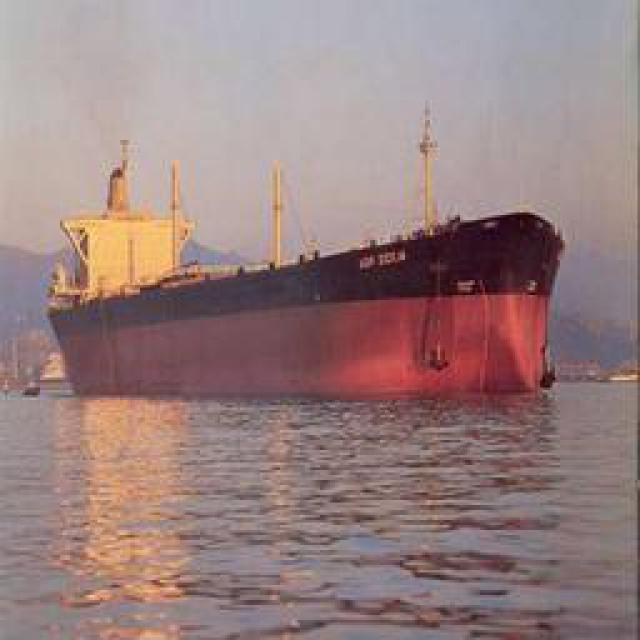Ship: (34, 207, 567, 405)
